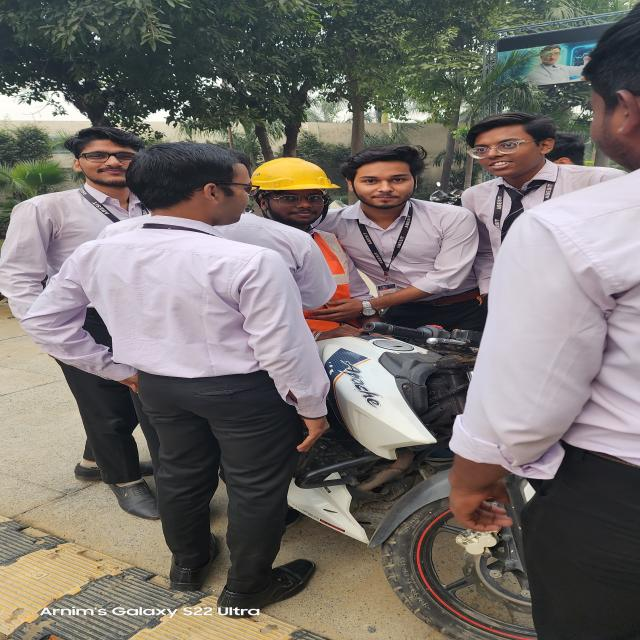safe: (244, 155, 380, 371)
unsafe: (32, 142, 321, 619), (0, 123, 172, 522), (451, 110, 640, 318), (323, 142, 487, 380)
